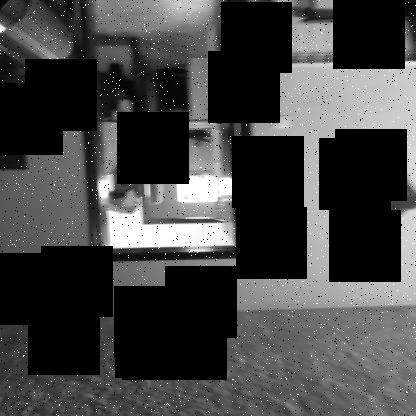Porte: (75, 0, 258, 264)
